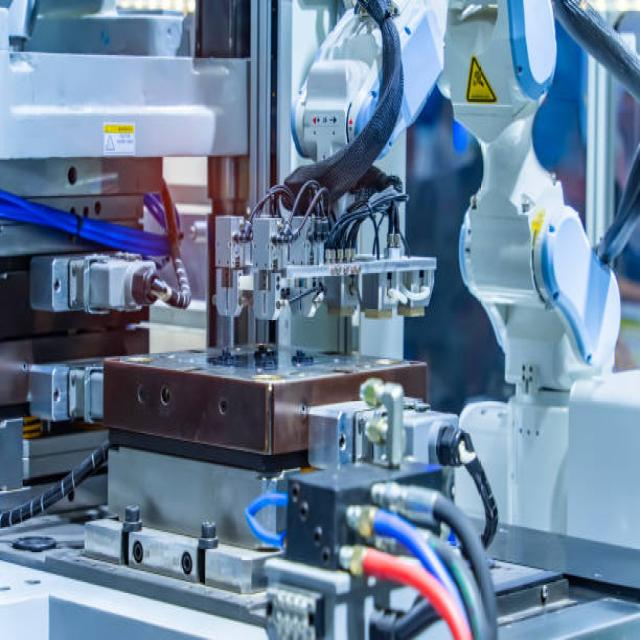Robotic-arm: (295, 8, 628, 402)
